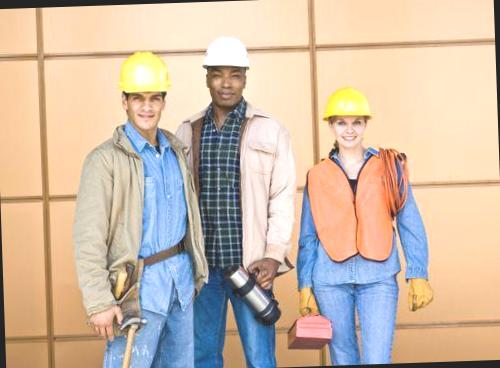helmet: (111, 50, 174, 104), (196, 32, 256, 78), (318, 84, 378, 121)
no_vest: (178, 101, 296, 282), (82, 134, 206, 294)
person: (172, 26, 306, 354), (79, 43, 202, 368), (300, 83, 428, 366)
